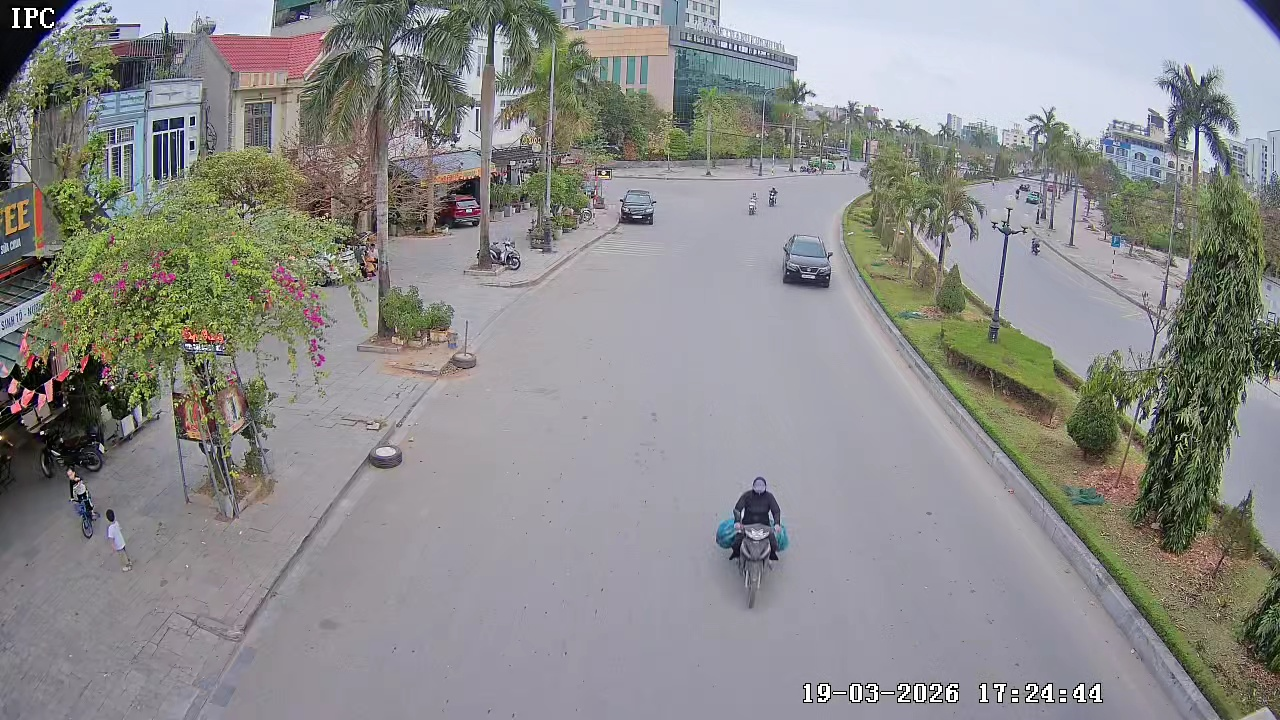bike: (68, 473, 98, 541)
car: (780, 231, 835, 288), (434, 188, 480, 230), (616, 187, 658, 225)
motorbike: (713, 474, 791, 609), (745, 187, 760, 219), (1030, 229, 1042, 258), (767, 183, 779, 210)
pedestrian: (101, 506, 135, 572)
